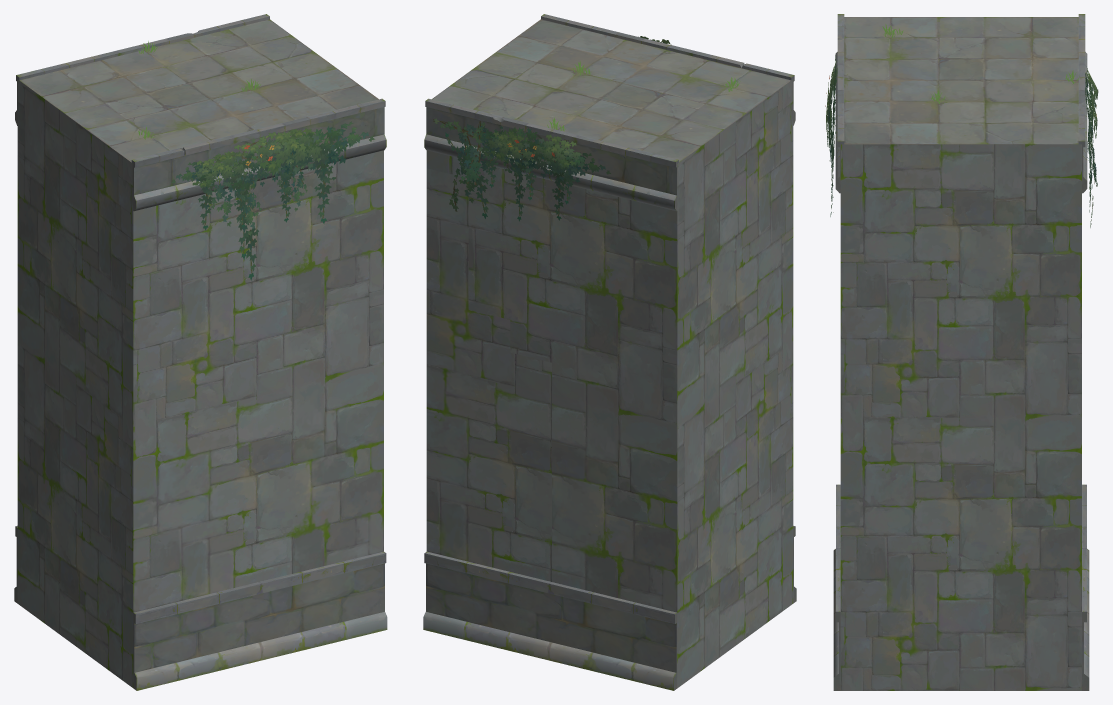
File: Area_MdBuild_SdWall01_01_Group.fbx
3 renders of one model, left to right at view 1: azimuth 30°, elevation 25°; view 2: azimuth 150°, elevation 25°; view 3: azimuth 270°, elevation 25°, orthographic. The views are drawn at different scales.
Parts seen in each view (by area): view 1: Area_MdBuild_SdWall01_01_Lod0, Stages_LYLvy02_Vo (1); view 2: Area_MdBuild_SdWall01_01_Lod0, Stages_LYLvy03_Vo (1), Stages_LYLvy09_Vo (1); view 3: Area_MdBuild_SdWall01_01_Lod0, Stages_LYLvy02_Vo (1), Stages_LYLvy03_Vo (1).
Part boxes in pixels (x1=…): Area_MdBuild_SdWall01_01_Lod0: x1=14, y1=14, x2=387, y2=690; Stages_LYLvy02_Vo (1): x1=171, y1=121, x2=374, y2=280; Area_MdBuild_SdWall01_01_Lod0: x1=423, y1=14, x2=796, y2=690; Stages_LYLvy03_Vo (1): x1=433, y1=118, x2=610, y2=221; Stages_LYLvy09_Vo (1): x1=445, y1=121, x2=496, y2=218; Area_MdBuild_SdWall01_01_Lod0: x1=833, y1=14, x2=1089, y2=690; Stages_LYLvy02_Vo (1): x1=825, y1=55, x2=837, y2=216; Stages_LYLvy03_Vo (1): x1=1085, y1=68, x2=1098, y2=188.
Bounding box in the file's own units: 10.25 × 20.46 × 9.08.
Materials: 6 (6 with a texture image).
